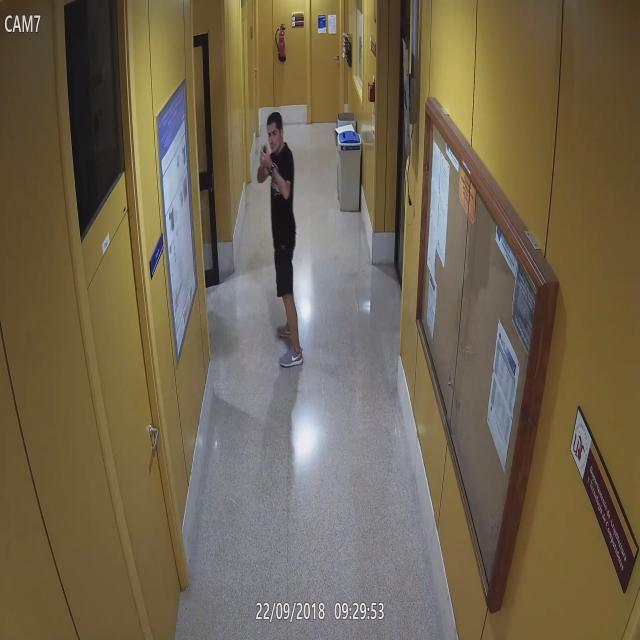Gun: (259, 144, 269, 168)
